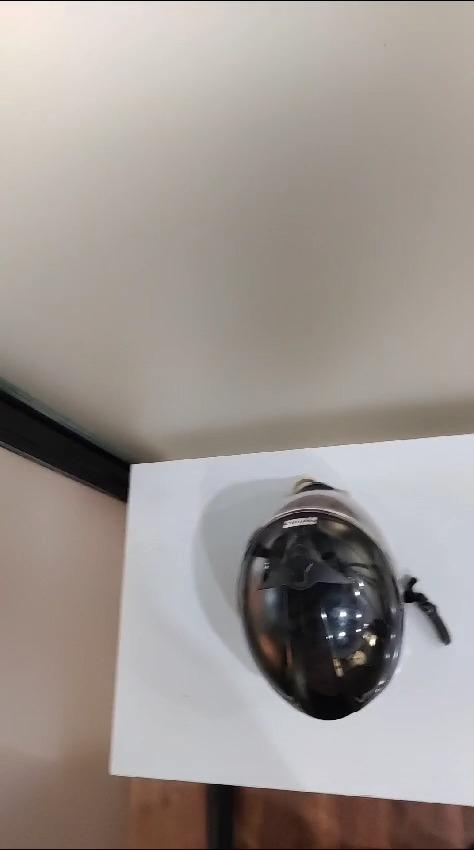Helmet: (239, 479, 450, 718)
